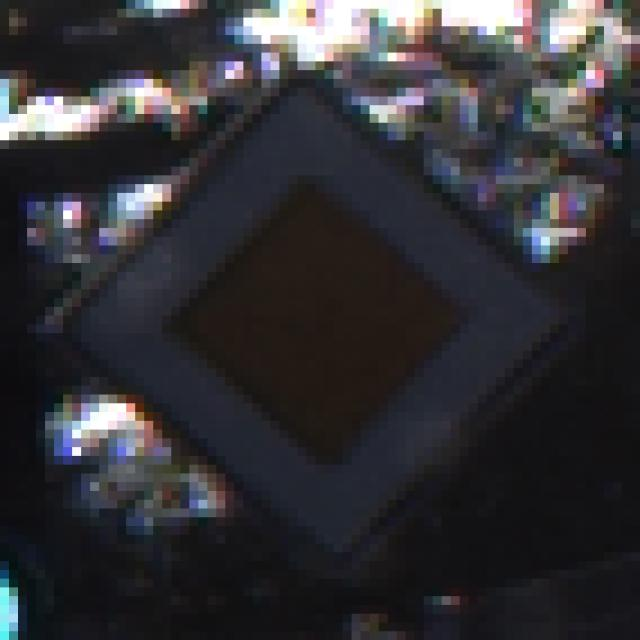Main Road: (55, 54, 587, 589)
